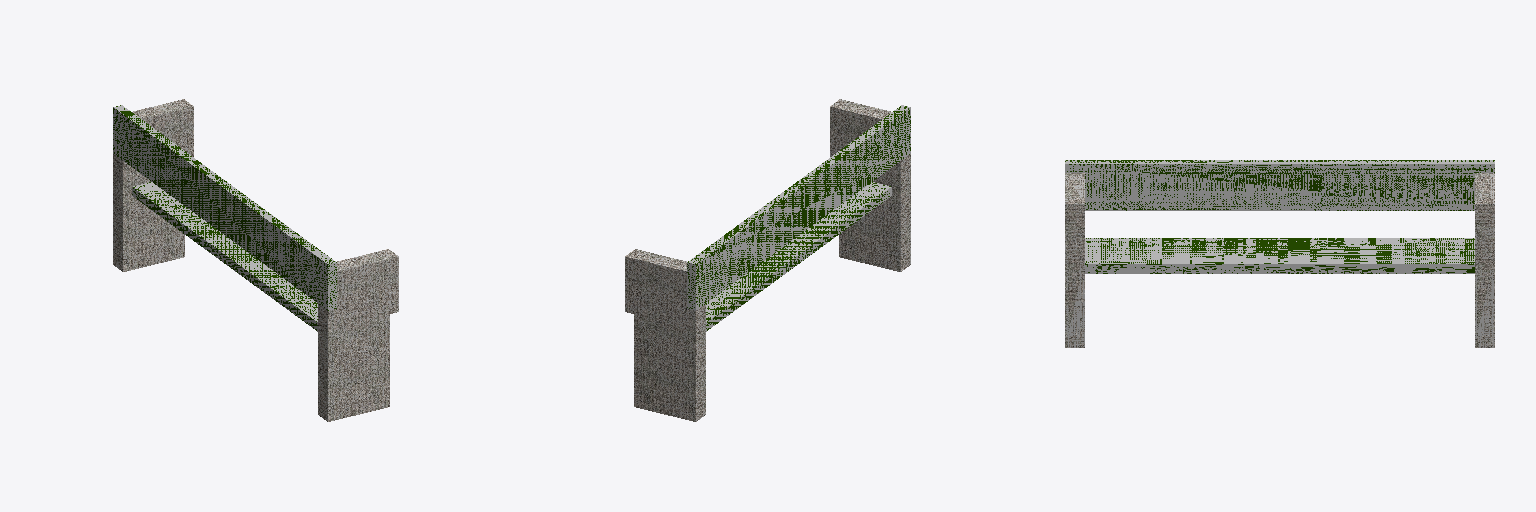
3 views of the same model, side by side, from view 1: azimuth 30°, elevation 25°; view 2: azimuth 150°, elevation 25°; view 3: azimuth 270°, elevation 25° (orthographic).
Parts seen in each view (by area): view 1: mesh3.001_mesh3-geometry, mesh1.003_mesh1-geometry, mesh1.004_mesh1-geometry, mesh2.001_mesh2-geometry; view 2: mesh3.001_mesh3-geometry, mesh1.004_mesh1-geometry, mesh1.003_mesh1-geometry, mesh2.001_mesh2-geometry; view 3: mesh3.001_mesh3-geometry, mesh2.001_mesh2-geometry, mesh1.004_mesh1-geometry, mesh1.003_mesh1-geometry.
Part boxes in pixels (bbox=[...]): mesh3.001_mesh3-geometry: bbox=[113, 105, 336, 310]; mesh1.003_mesh1-geometry: bbox=[318, 249, 398, 421]; mesh1.004_mesh1-geometry: bbox=[113, 99, 193, 271]; mesh2.001_mesh2-geometry: bbox=[132, 182, 317, 331]; mesh3.001_mesh3-geometry: bbox=[687, 105, 910, 310]; mesh1.004_mesh1-geometry: bbox=[625, 249, 705, 421]; mesh1.003_mesh1-geometry: bbox=[830, 99, 910, 271]; mesh2.001_mesh2-geometry: bbox=[706, 182, 891, 331]; mesh3.001_mesh3-geometry: bbox=[1065, 160, 1494, 210]; mesh2.001_mesh2-geometry: bbox=[1085, 238, 1474, 273]; mesh1.004_mesh1-geometry: bbox=[1475, 173, 1494, 347]; mesh1.003_mesh1-geometry: bbox=[1065, 173, 1084, 347].
Size of the model in its own units: 0.1739 by 0.3695 by 0.9128.
3 materials, 1 textured.